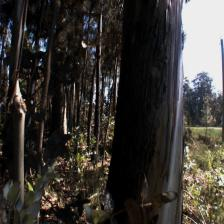trunktrack_idkeyframe: (104, 0, 182, 223)
